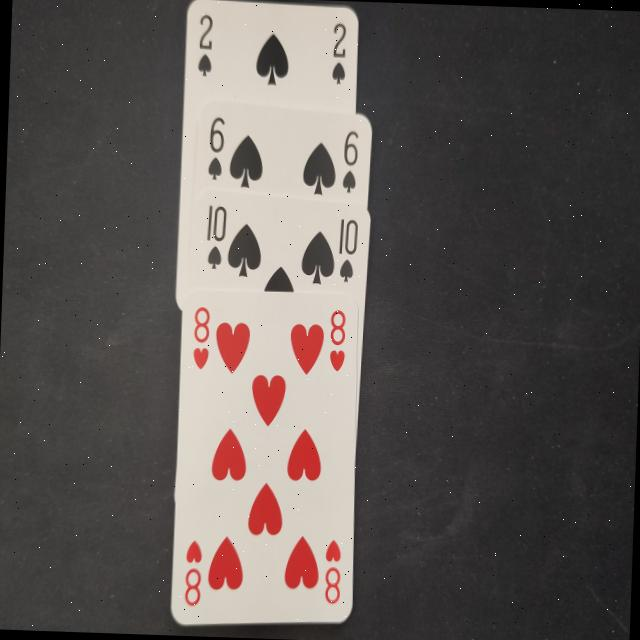10s: (330, 212, 361, 290), (202, 196, 230, 275)
2s: (191, 8, 218, 84), (326, 19, 352, 90)
6s: (202, 110, 229, 190), (336, 125, 364, 200)
8h: (315, 537, 345, 610), (178, 534, 206, 610), (186, 302, 213, 378), (324, 307, 346, 377)
